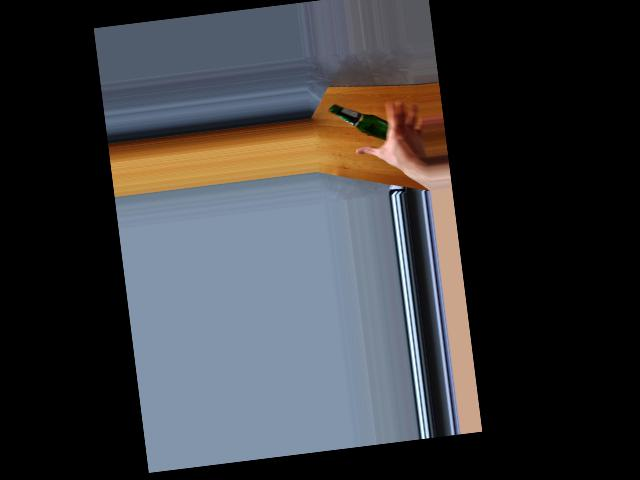beer: (328, 98, 389, 147)
